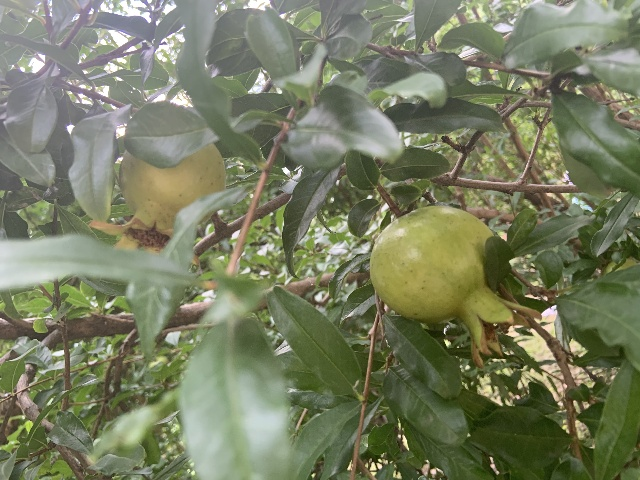mid-growth: (369, 204, 542, 369), (87, 143, 226, 266)
